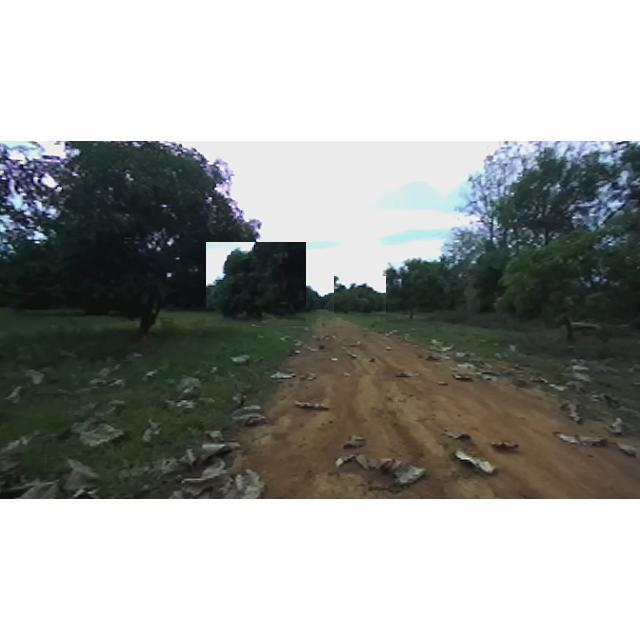tree: (0, 144, 280, 346), (468, 148, 640, 352), (463, 142, 565, 296), (206, 242, 306, 326), (368, 253, 457, 327), (334, 276, 386, 314), (280, 272, 324, 312)
